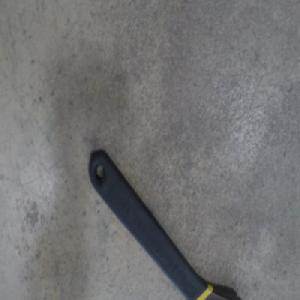AdjustableWrench: (87, 155, 242, 300)
